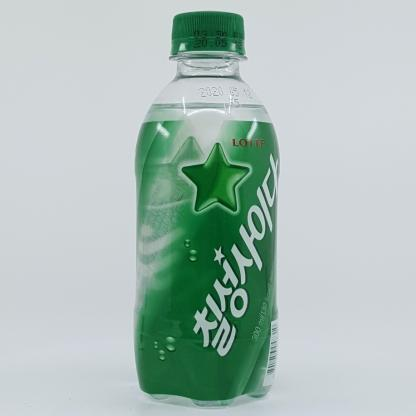-----------390ML: (132, 10, 281, 409)
